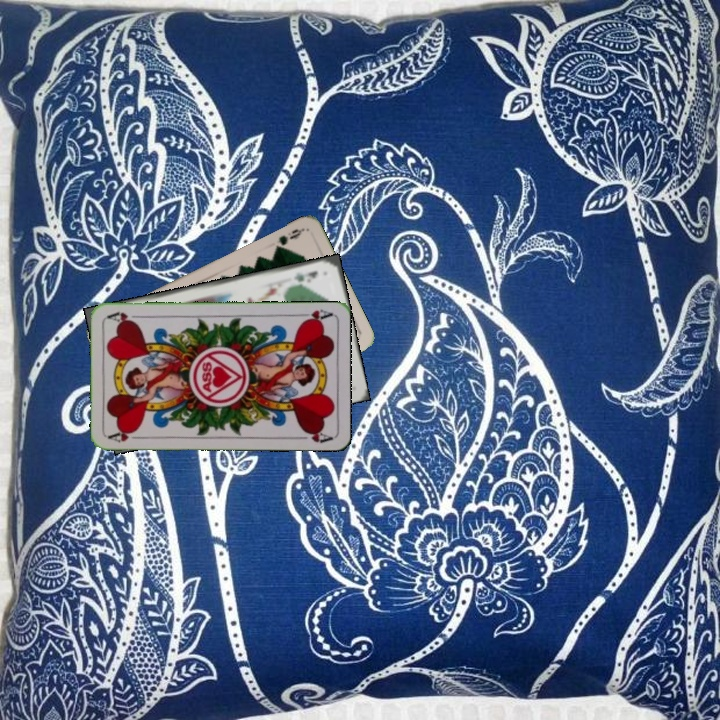G9: (271, 224, 306, 254)
GK: (289, 267, 320, 285)
HA: (293, 306, 334, 325), (105, 426, 145, 445)
